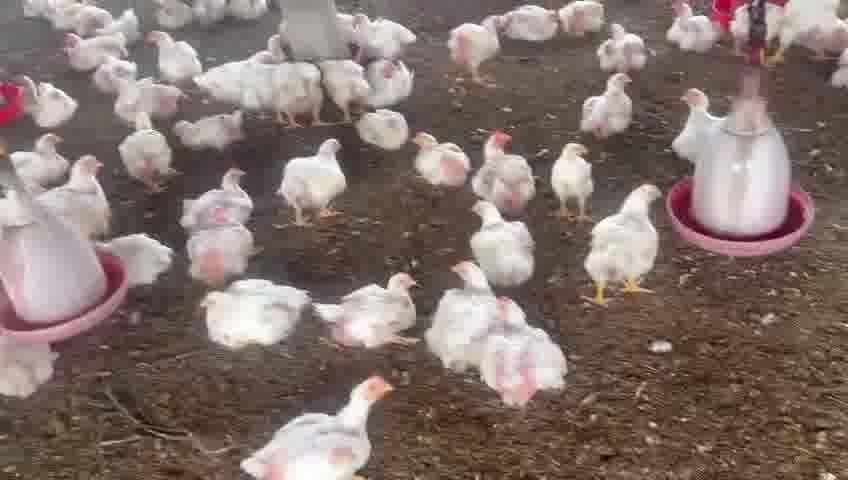AbNormal: (168, 106, 250, 153)
Normal: (238, 370, 406, 480), (584, 176, 661, 310), (484, 300, 568, 412), (315, 274, 422, 360), (193, 280, 310, 350), (428, 259, 491, 374), (452, 201, 538, 284), (461, 124, 534, 216), (526, 130, 598, 221), (272, 140, 348, 222), (35, 155, 117, 228), (191, 209, 265, 285), (580, 73, 646, 144), (398, 125, 465, 194), (319, 53, 379, 125), (265, 61, 324, 130), (445, 20, 510, 82), (181, 174, 256, 224), (140, 25, 204, 80), (126, 111, 174, 181), (668, 1, 728, 56), (606, 22, 660, 75), (63, 30, 130, 69), (361, 105, 410, 150)
